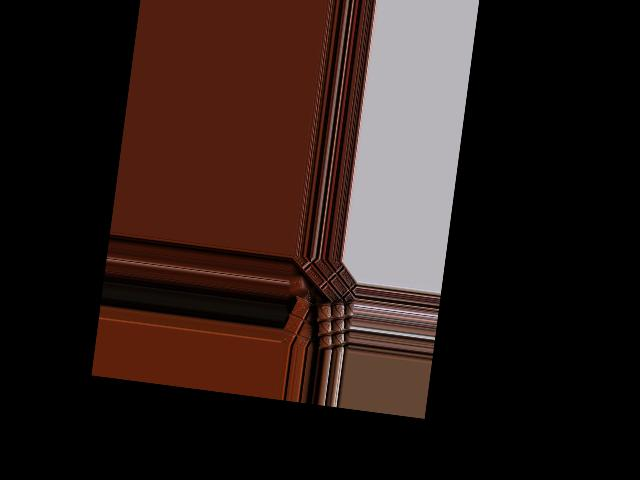chocolate: (284, 296, 330, 350)
